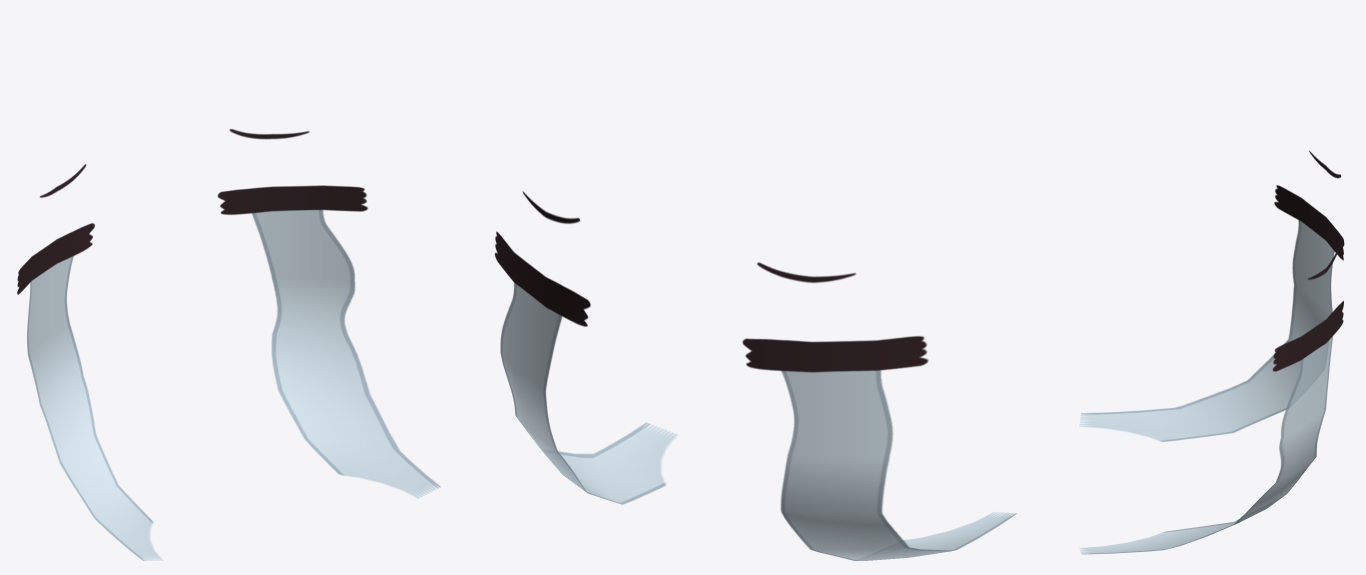
The model's file is 29-Crying-Sad-Cute-Closed-Eyes-Anime-Chibi-eyes.glb.
3 views of the same model, side by side, from view 1: azimuth 30°, elevation 25°; view 2: azimuth 150°, elevation 25°; view 3: azimuth 270°, elevation 25° (orthographic). The views are drawn at different scales.
Visible parts, largest first — view 1: 29-Crying-Sad-Cute-Closed-Eyes-Anime-Chibi-eyes; view 2: 29-Crying-Sad-Cute-Closed-Eyes-Anime-Chibi-eyes; view 3: 29-Crying-Sad-Cute-Closed-Eyes-Anime-Chibi-eyes.
Boxes of the visible parts, x1,y1,x2,y2 form: 29-Crying-Sad-Cute-Closed-Eyes-Anime-Chibi-eyes: [17, 129, 440, 560]; 29-Crying-Sad-Cute-Closed-Eyes-Anime-Chibi-eyes: [495, 191, 1016, 560]; 29-Crying-Sad-Cute-Closed-Eyes-Anime-Chibi-eyes: [1079, 150, 1344, 554].
Size of the model in its own units: 0.9005 by 0.9 by 0.5738.
1 material, 1 textured.
